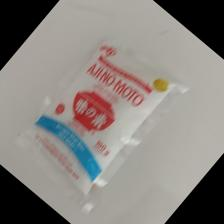Ajinomoto: (23, 44, 170, 195)
